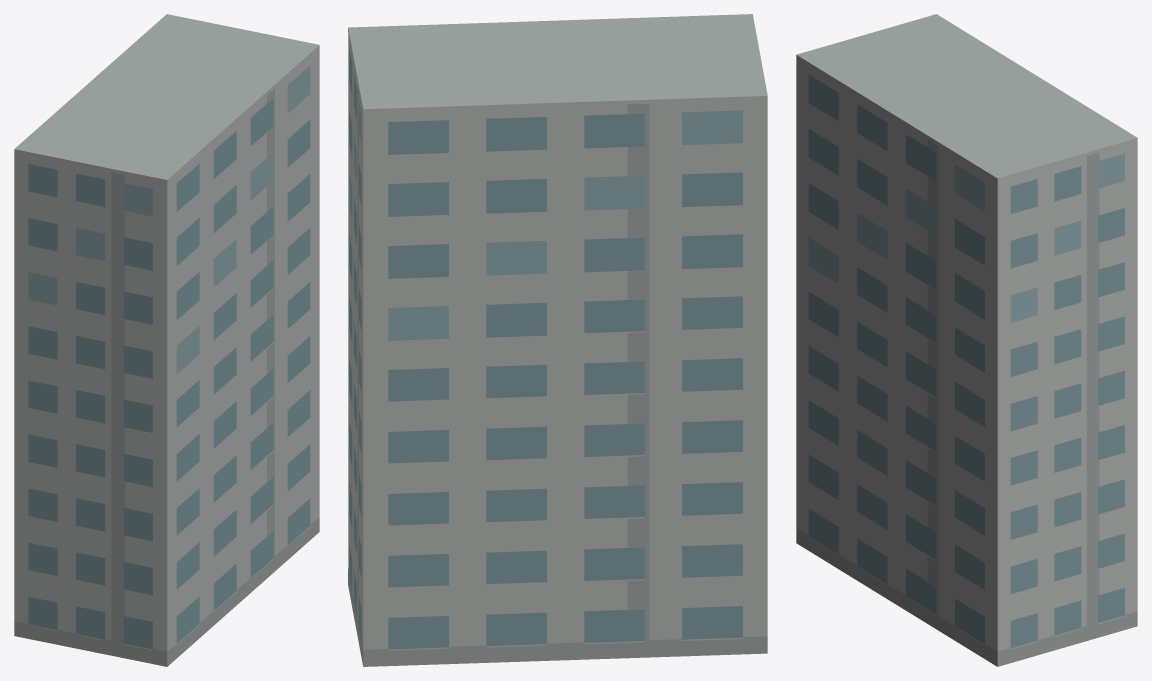
Rendered from residential-22f129f2-c655-4657-b5de-26b1a2f88638.glb.
3 renders of one model, left to right at view 1: azimuth 30°, elevation 25°; view 2: azimuth 150°, elevation 25°; view 3: azimuth 270°, elevation 25°, orthographic. The views are drawn at different scales.
Visible parts, largest first — view 1: residential-22f129f2-c655-4657-b5de-26b1a2f88638.tmp; view 2: residential-22f129f2-c655-4657-b5de-26b1a2f88638.tmp; view 3: residential-22f129f2-c655-4657-b5de-26b1a2f88638.tmp.
Part boxes in pixels (x1,y1,x2,y2): residential-22f129f2-c655-4657-b5de-26b1a2f88638.tmp: (14, 14, 319, 666); residential-22f129f2-c655-4657-b5de-26b1a2f88638.tmp: (348, 14, 767, 666); residential-22f129f2-c655-4657-b5de-26b1a2f88638.tmp: (796, 14, 1137, 666).
Bounding box in the file's own units: 24.56 × 34 × 21.55.
